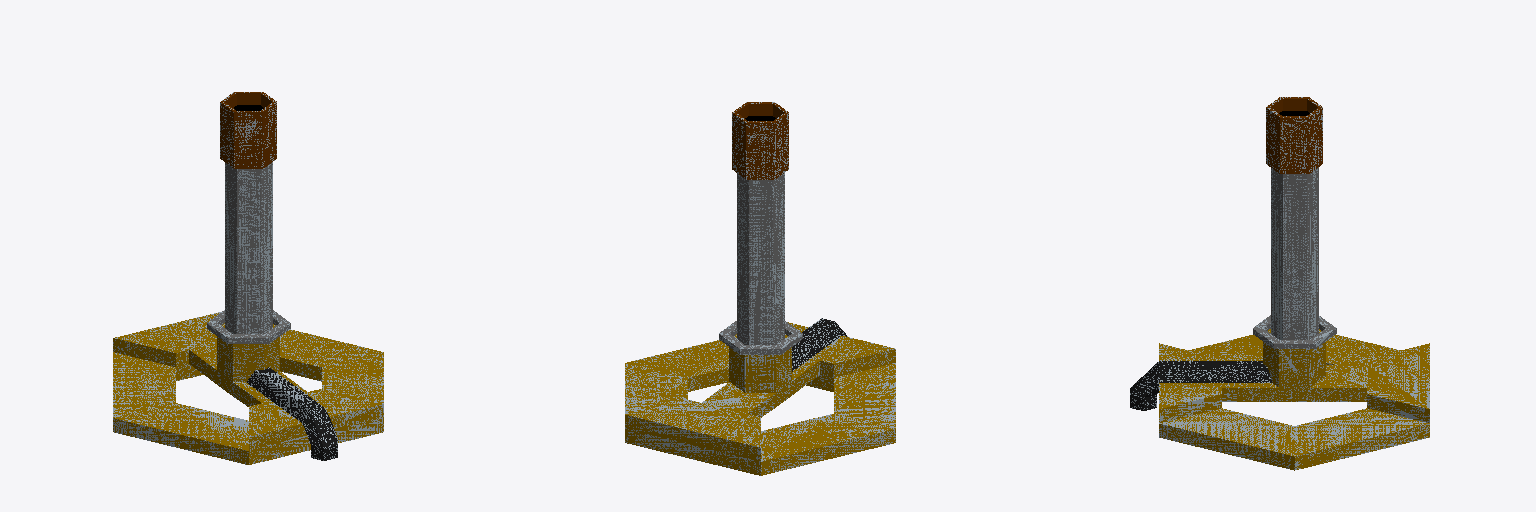
File: BunsenBurner.obj
3 views of the same model, side by side, from view 1: azimuth 30°, elevation 25°; view 2: azimuth 150°, elevation 25°; view 3: azimuth 270°, elevation 25° (orthographic).
Visible parts, largest first — view 1: Mesh1 Model; view 2: Mesh1 Model; view 3: Mesh1 Model.
Part boxes in pixels (x1,y1,x2,y2): Mesh1 Model: (113, 92, 383, 464); Mesh1 Model: (625, 102, 895, 475); Mesh1 Model: (1130, 97, 1429, 470).
Bounding box in the file's own units: 0.1 × 0.105 × 0.0959.